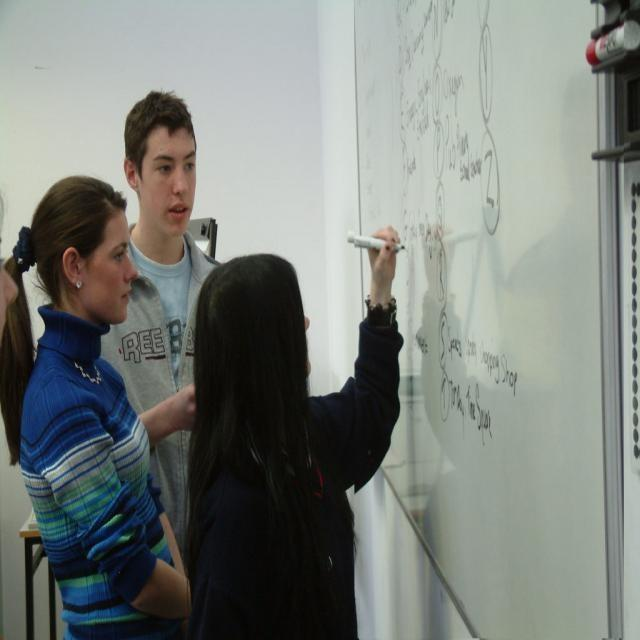Whiteboard: (352, 0, 611, 639)
